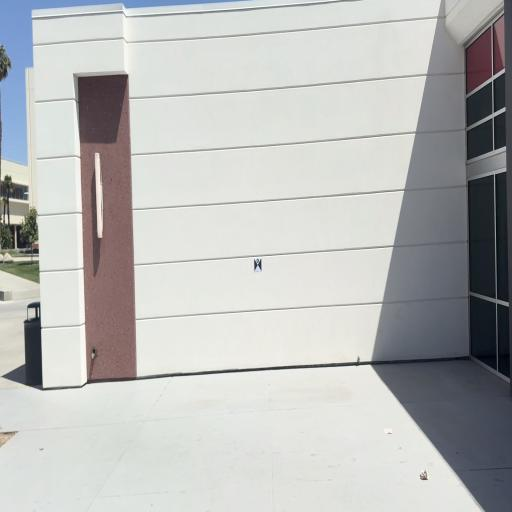target0: (254, 257, 262, 272)
